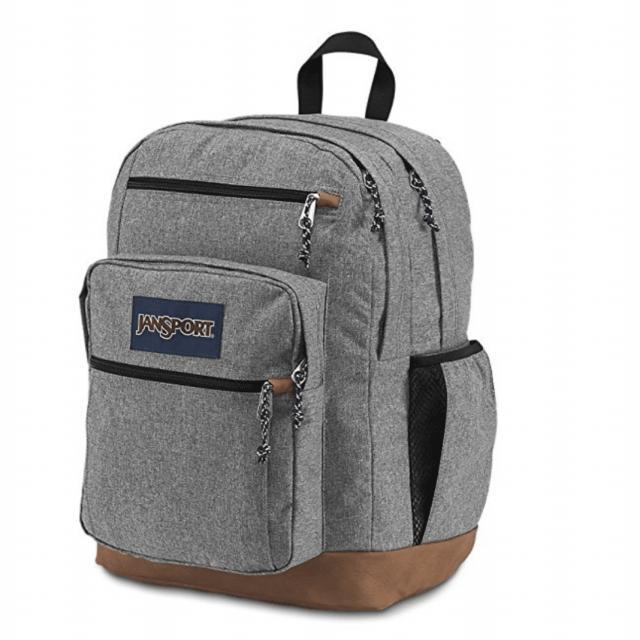Backpacks: (72, 107, 505, 618)
